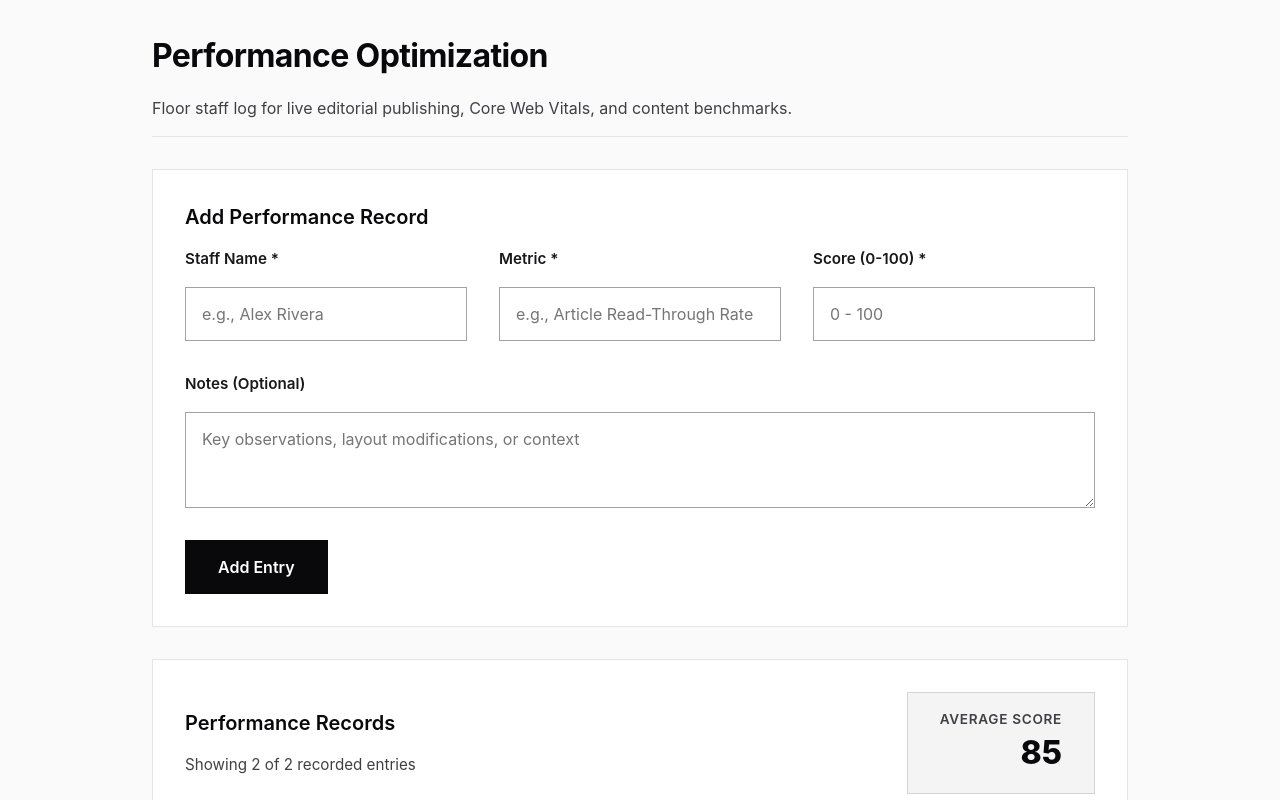
Test case: PerformanceOptimization Component › 1. Happy Path › submits a valid form, calls api.save, adds the new entry, updates average score, and resets form
This screenshot has width=1280, height=800.
Type "Charlie Parker" into the field labelled "Staff Name *". click: (326, 314)
box: [185,287,467,341]
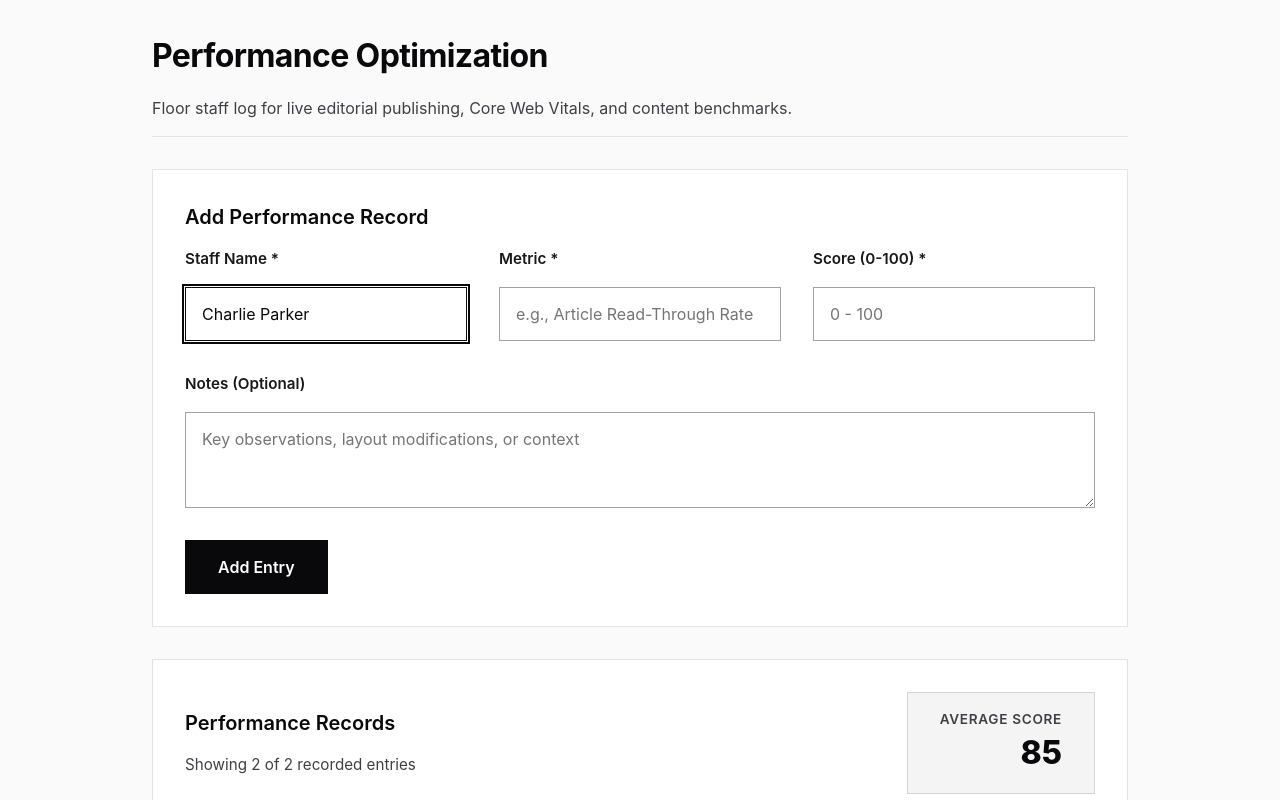
Type "Page Load Speed" into the field labelled "Metric *". click: (640, 314)
box: [499,287,781,341]
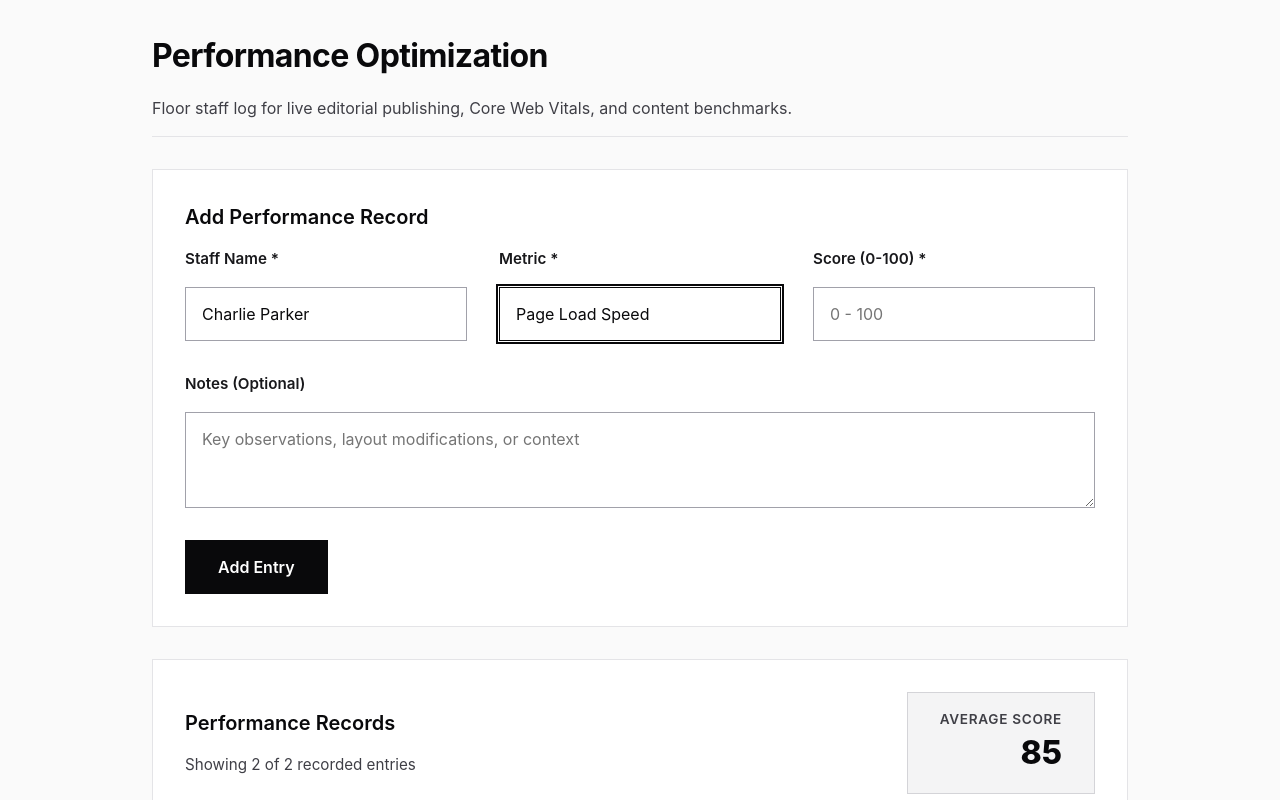
Type "100" into the number field labelled "Score (0-100) *". click: (954, 314)
box: [813,287,1095,341]
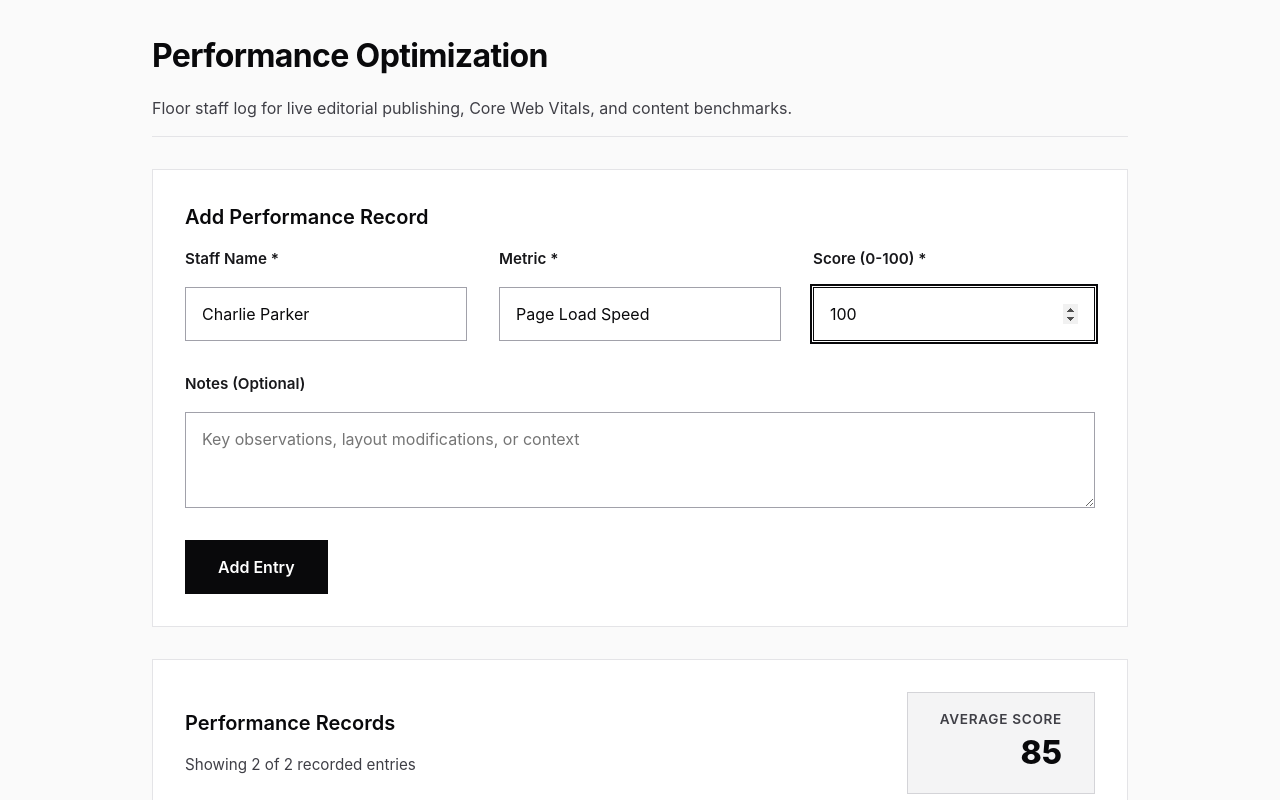
Type "Optimized lead image compression" into the text box labelled "Notes (Optional)". click: (640, 460)
box: [185,412,1095,508]
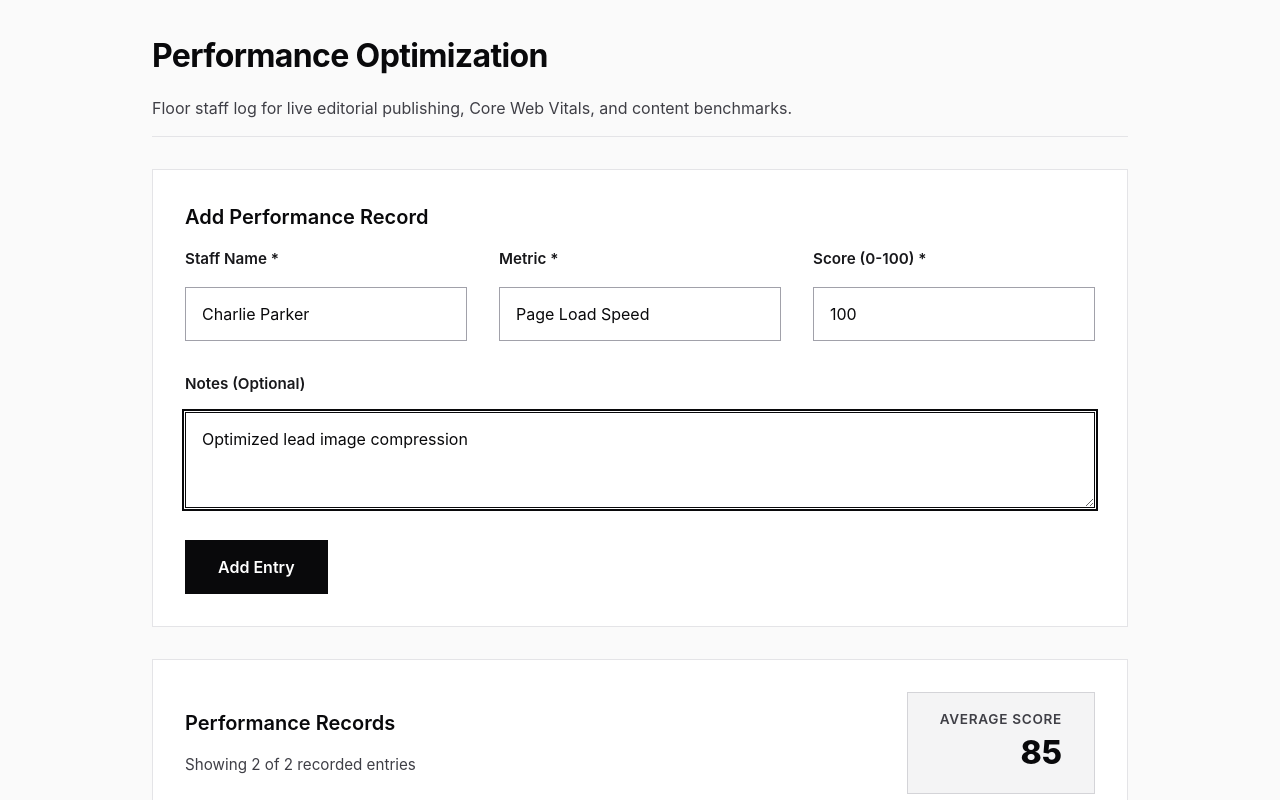
Click the button "Add Entry". click: (256, 567)
box: [185,540,328,594]
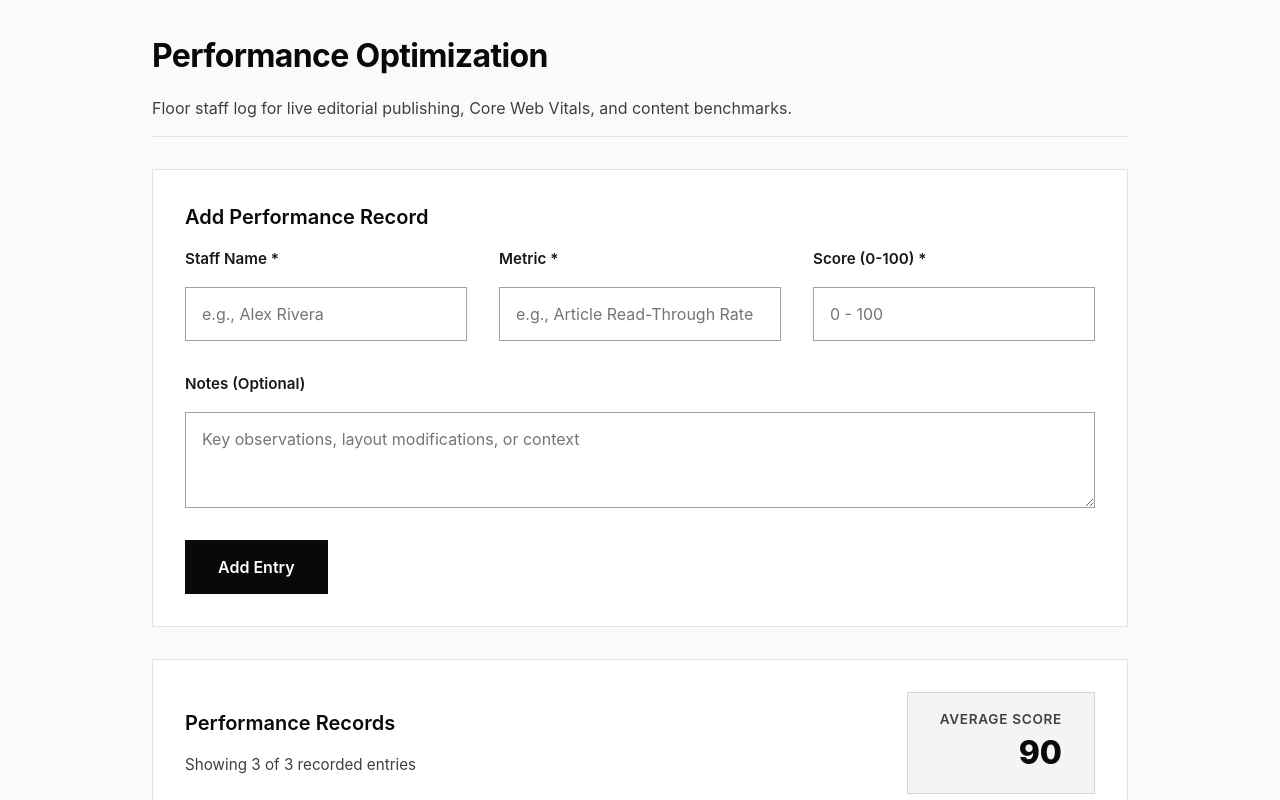
Now the text with test id "average-score" reads "90", box [1019,733,1062,772]
Now the field labelled "Staff Name *" is empty, box [185,287,467,341]
Now the field labelled "Metric *" is empty, box [499,287,781,341]
